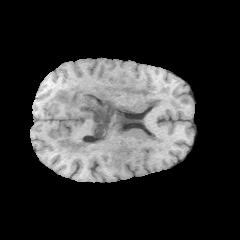glioma: (49, 73, 180, 171)
